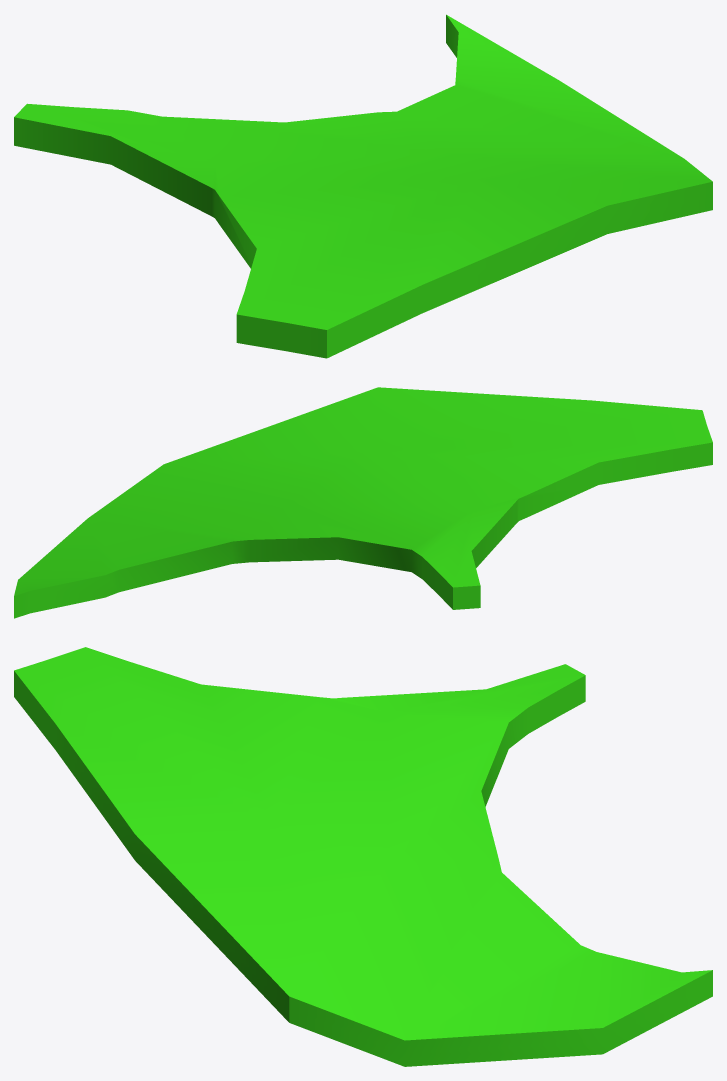
File: salad_10.fbx
3 views of the same model, one above another, from view 1: azimuth 30°, elevation 25°; view 2: azimuth 150°, elevation 25°; view 3: azimuth 270°, elevation 25° (orthographic). The views are drawn at different scales.
Parts seen in each view (by area): view 1: Salad_0.010; view 2: Salad_0.010; view 3: Salad_0.010.
Boxes of the visible parts, box(x1,y1,x2,y2) form: Salad_0.010: box(14, 14, 712, 358); Salad_0.010: box(14, 387, 712, 618); Salad_0.010: box(14, 647, 712, 1066).
Bounding box in the file's own units: 52.97 × 12.24 × 55.74.
